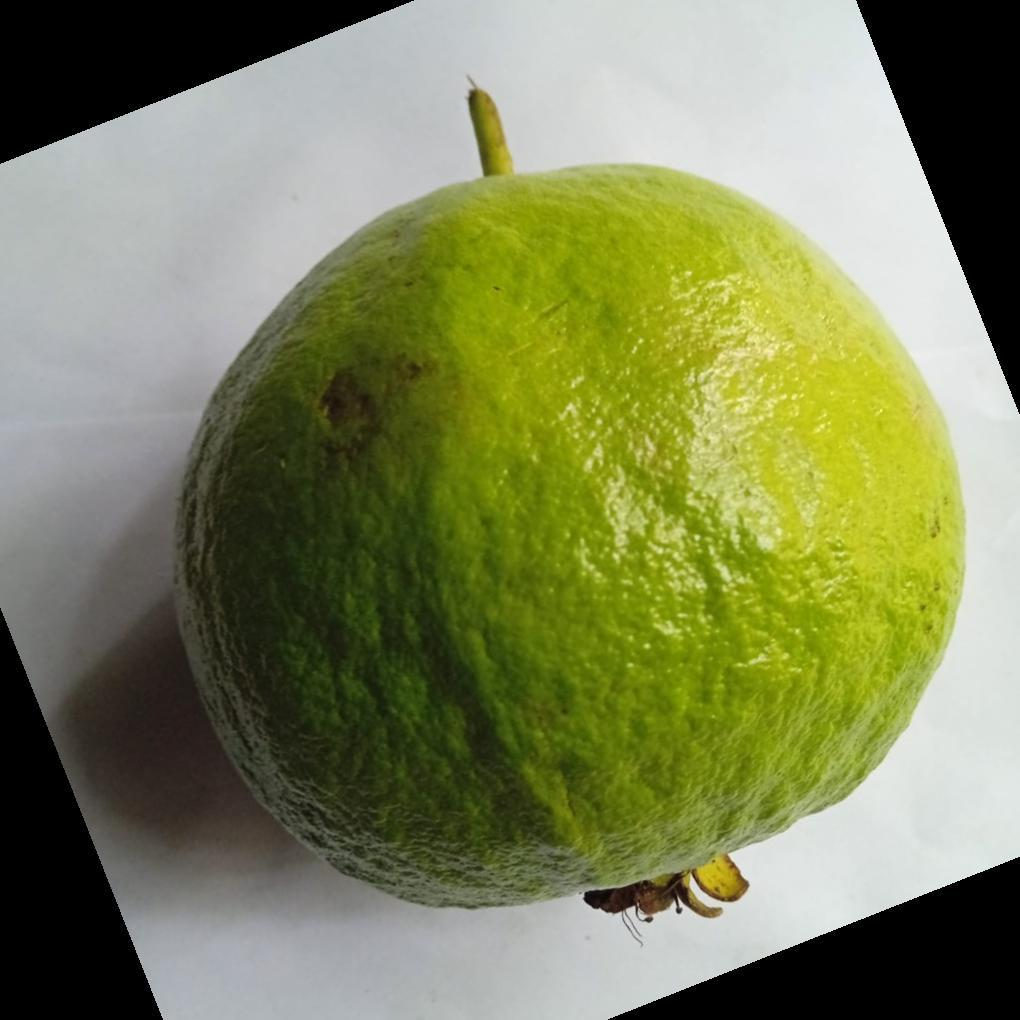FreshGuava: (171, 97, 967, 914)
